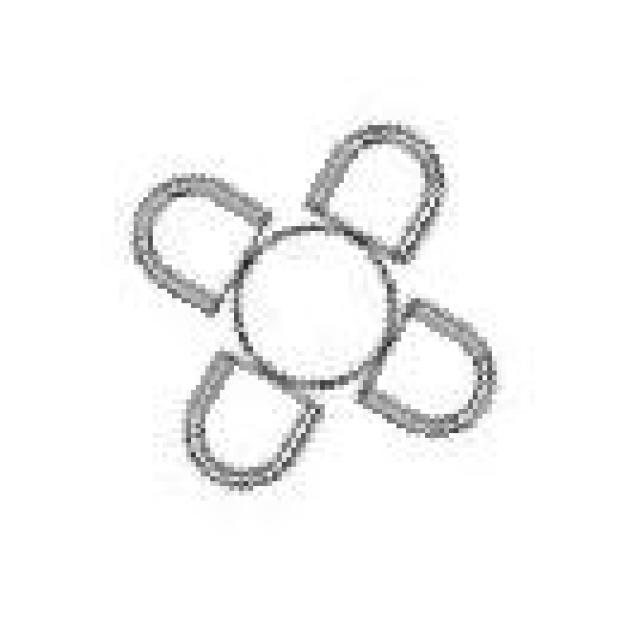table: (119, 120, 497, 482)
